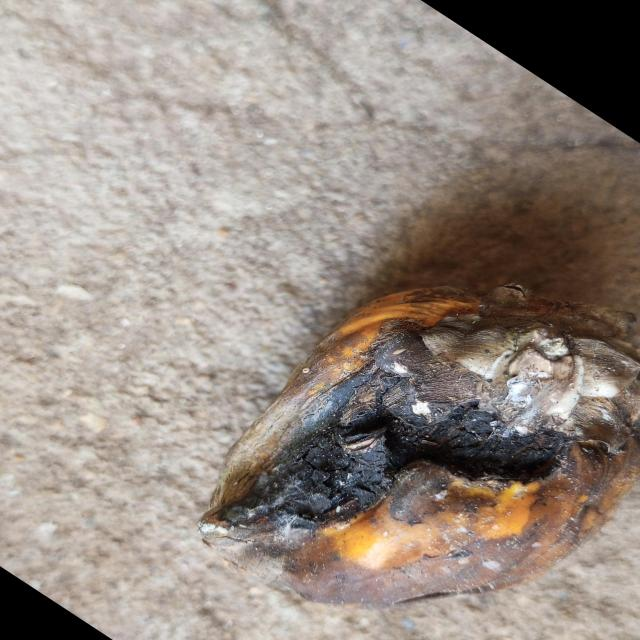damaged: (200, 314, 640, 609)
